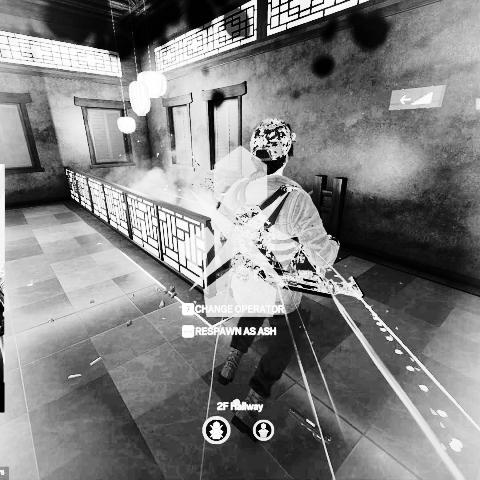Character: (207, 115, 342, 446)
Head: (249, 118, 298, 176)
